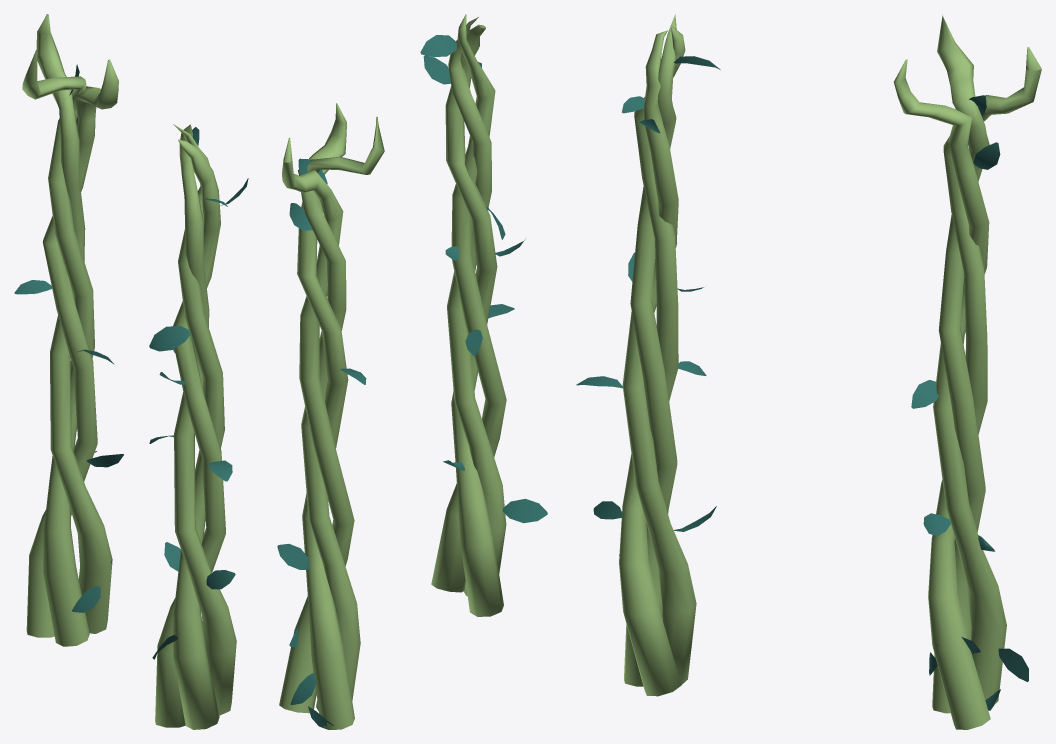
The model's file is vines.fbx.
The picture shows the model from 3 angles, left to right: view 1: azimuth 30°, elevation 25°; view 2: azimuth 150°, elevation 25°; view 3: azimuth 270°, elevation 25°; orthographic projection. The views are drawn at different scales.
Parts seen in each view (by area): view 1: Vine Grab, Vine Climb; view 2: Vine Grab, Vine Climb; view 3: Vine Grab, Vine Climb.
Part boxes in pixels (<box>): Vine Grab: <box>14,14,123,646</box>; Vine Climb: <box>149,124,248,729</box>; Vine Grab: <box>277,103,384,729</box>; Vine Climb: <box>420,14,547,616</box>; Vine Grab: <box>894,15,1041,729</box>; Vine Climb: <box>576,14,720,696</box>.
Size of the model in its own units: 122 by 653 by 402.
